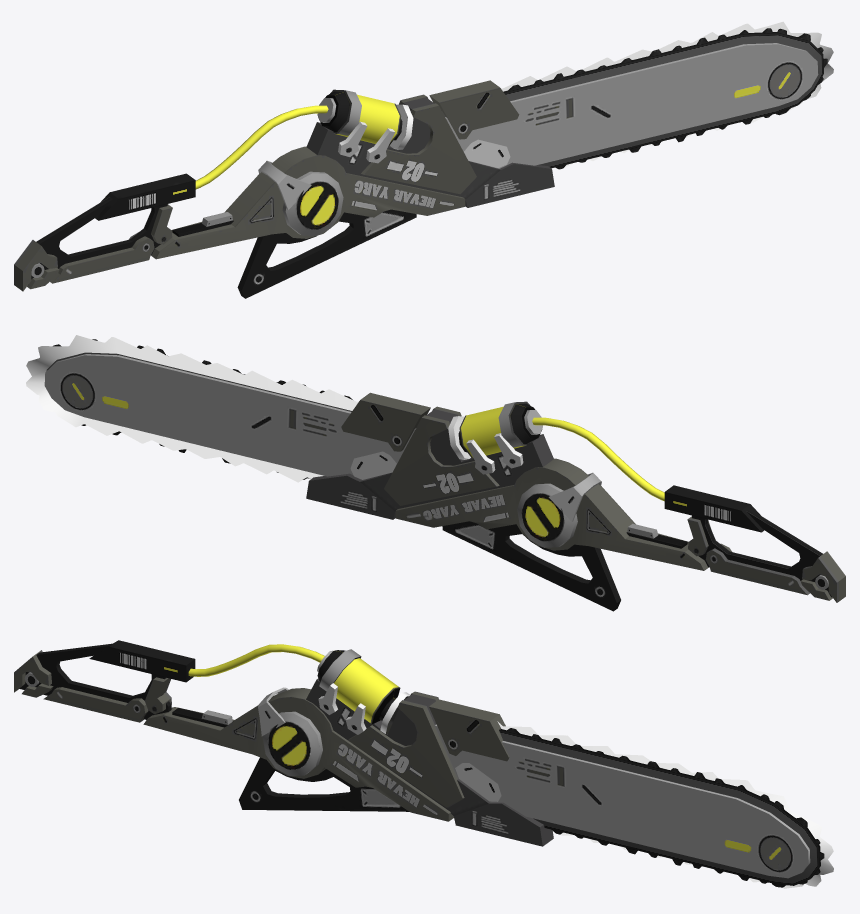
The model's file is E2SawMd040011.fbx.
3 renders of one model, top to bottom at view 1: azimuth 30°, elevation 25°; view 2: azimuth 150°, elevation 25°; view 3: azimuth 330°, elevation 25°, orthographic.
Parts seen in each view (by area): view 1: E2SawMd0400111, E2SawMd0400112, E2SawMd040011LightPlane1; view 2: E2SawMd0400111, E2SawMd040011LightPlane1, E2SawMd0400112; view 3: E2SawMd0400111, E2SawMd0400112, E2SawMd040011LightPlane1.
Part boxes in pixels (x1,y1,x2,y2): E2SawMd0400111: (14,43,818,298); E2SawMd0400112: (441,28,827,169); E2SawMd040011LightPlane1: (501,21,833,169); E2SawMd0400111: (44,354,845,611); E2SawMd040011LightPlane1: (26,335,358,482); E2SawMd0400112: (46,339,352,479); E2SawMd0400111: (14,640,810,878); E2SawMd0400112: (435,722,824,887); E2SawMd040011LightPlane1: (497,721,833,888).
Size of the model in its own units: 1.05 by 0.2207 by 0.0685.
Materials: 3 (3 with a texture image).
